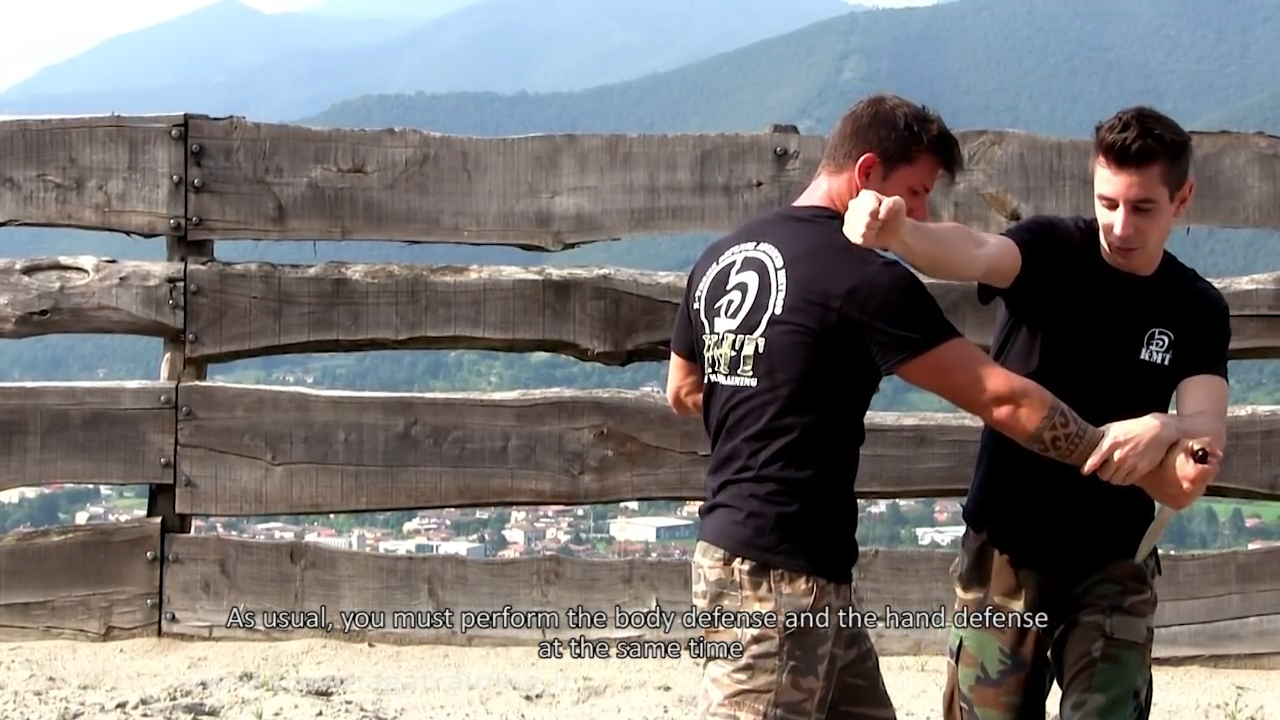knife: (1128, 435, 1227, 569)
